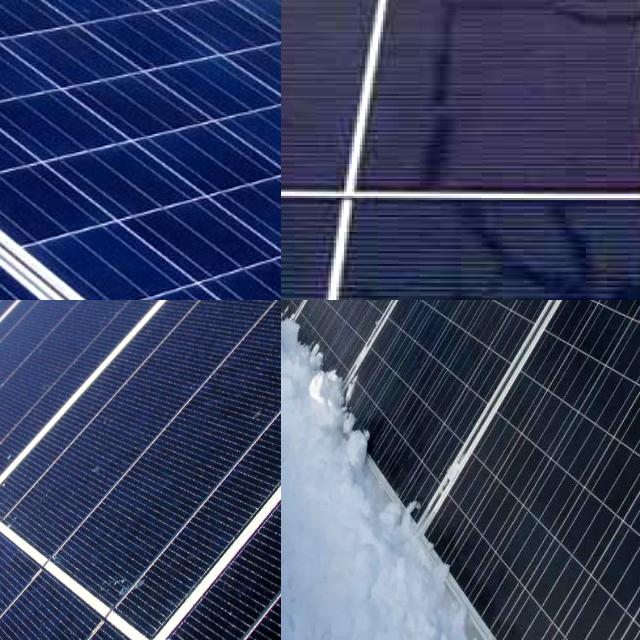crack: (0, 300, 281, 640), (6, 0, 281, 300)
panel: (336, 408, 422, 550), (400, 553, 537, 640), (281, 300, 348, 414), (281, 321, 365, 410)
shadow: (393, 0, 640, 169), (340, 192, 640, 300)
